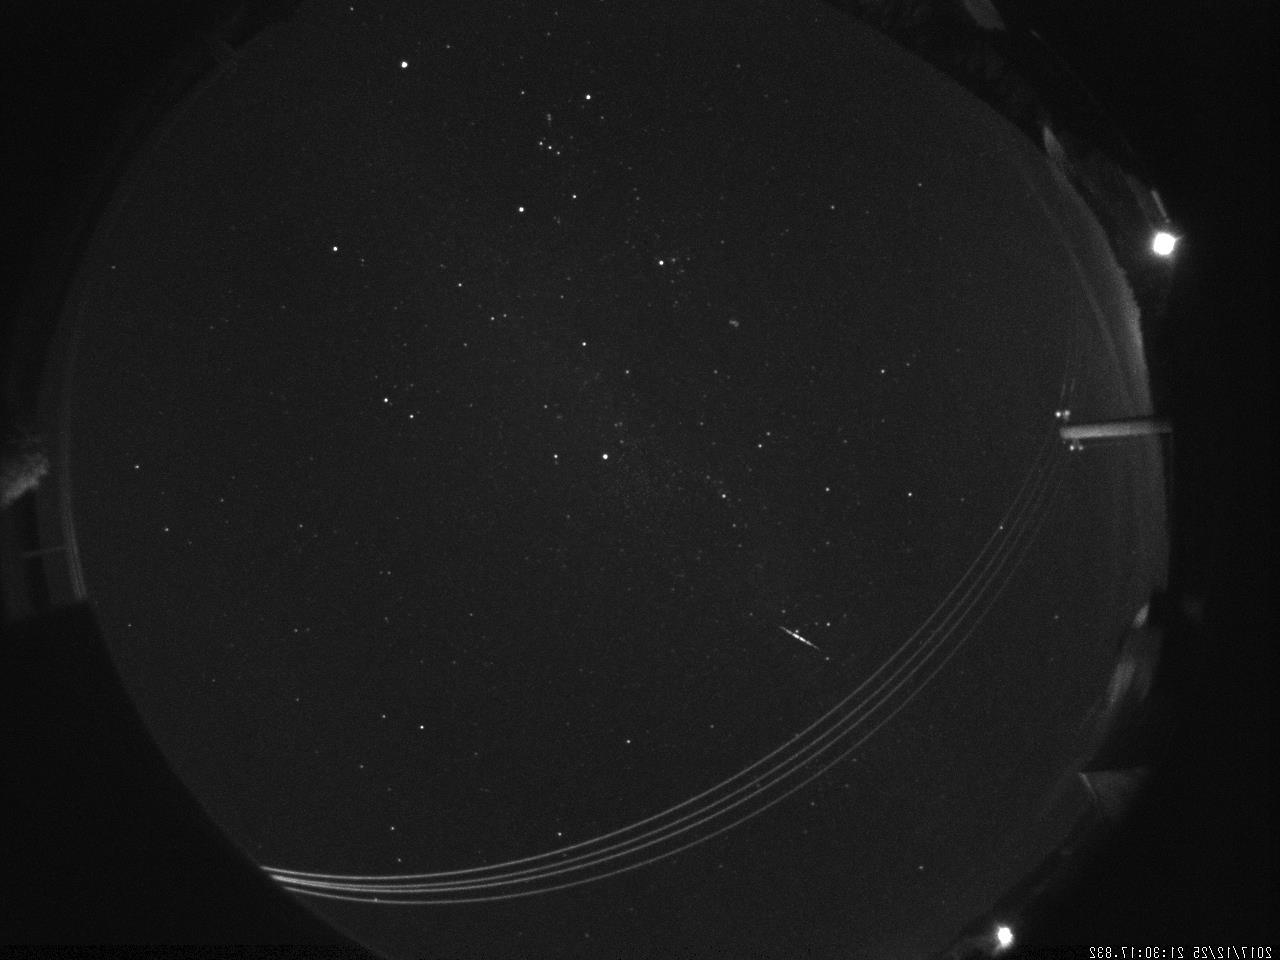meteor: (735, 611, 860, 664)
